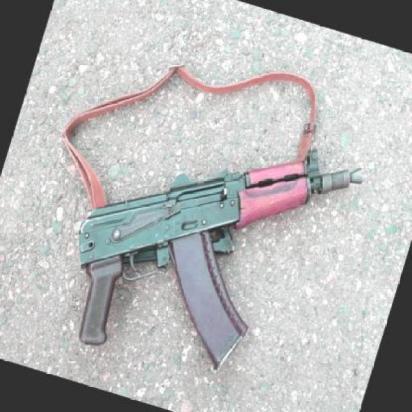Gun: (67, 144, 368, 376)
